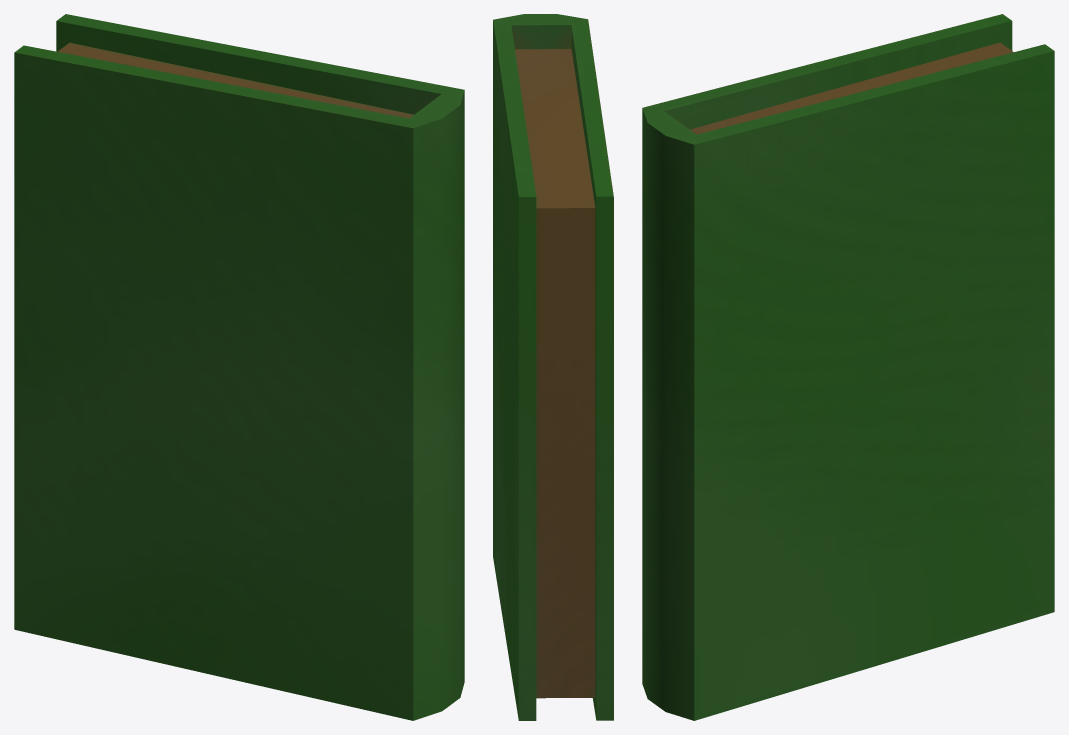
File: LibraryBook.fbx
3 renders of one model, left to right at view 1: azimuth 30°, elevation 25°; view 2: azimuth 150°, elevation 25°; view 3: azimuth 270°, elevation 25°, orthographic. The views are drawn at different scales.
Visible parts, largest first — view 1: GreenBook.001; view 2: GreenBook.001; view 3: GreenBook.001.
Boxes of the visible parts, x1,y1,x2,y2 form: GreenBook.001: (14,14,464,720); GreenBook.001: (493,14,613,720); GreenBook.001: (642,14,1054,720).
Size of the model in its own units: 106 by 207 by 134.
